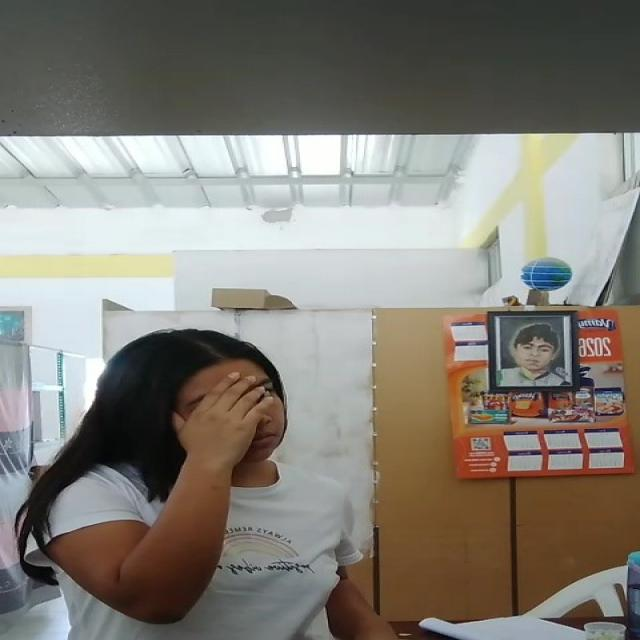7_mano_rostro: (170, 370, 275, 491)
